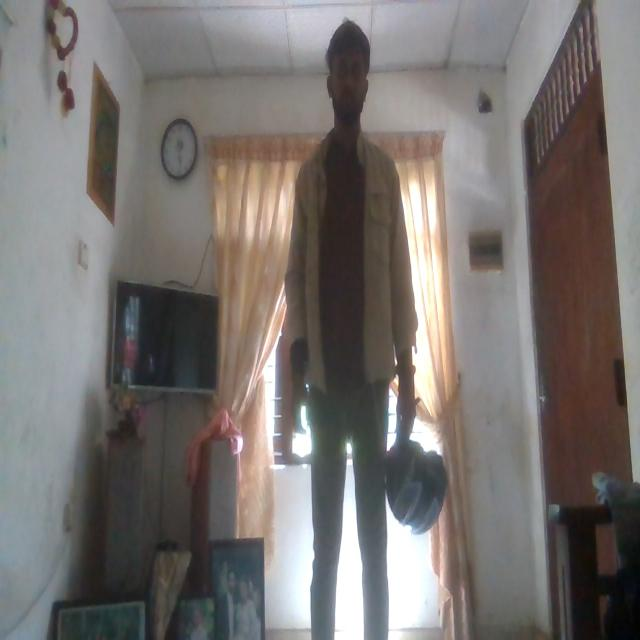Jacket_Wearer: (290, 123, 418, 404)
Person: (289, 17, 417, 640)
